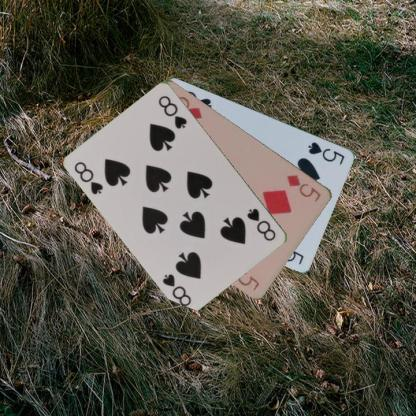5d: (284, 172, 323, 204)
5s: (306, 140, 346, 166)
8s: (244, 206, 278, 242), (72, 159, 104, 196)
